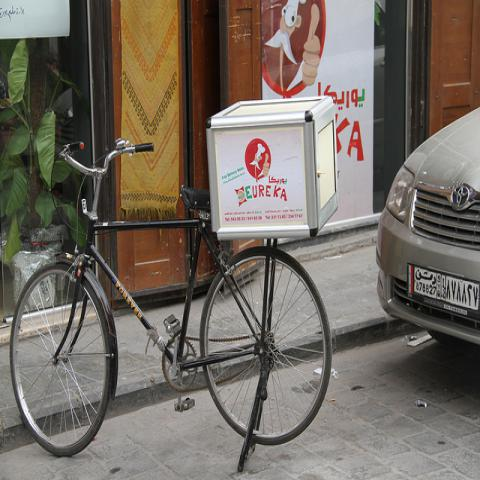car: (374, 106, 479, 347)
